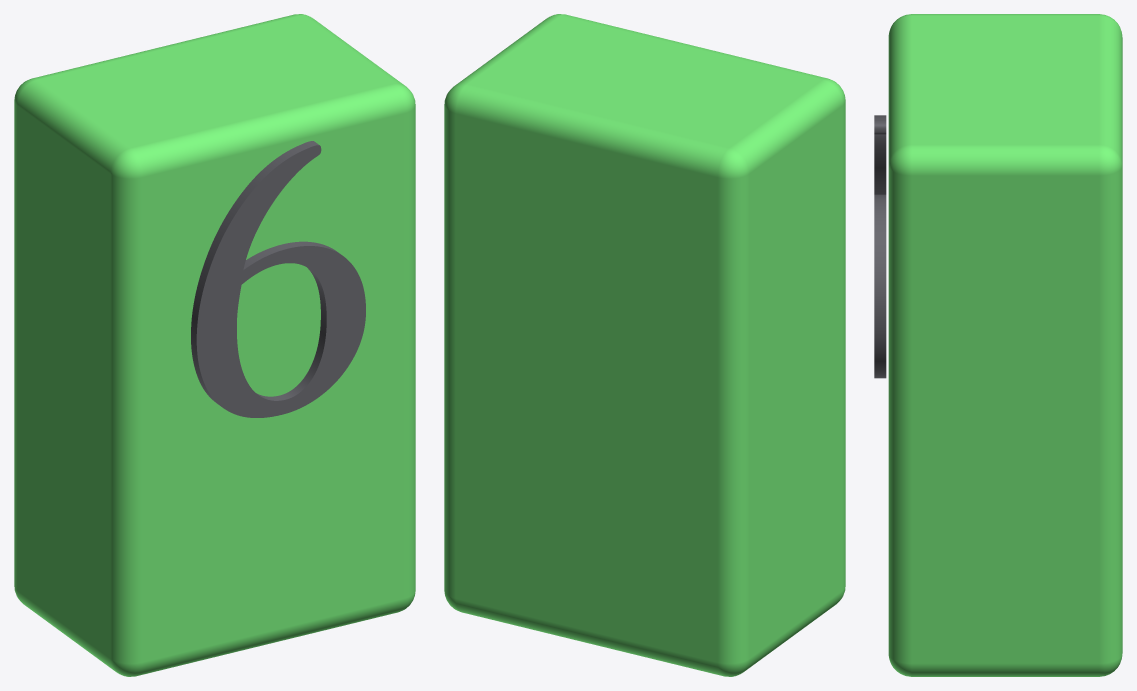
Rendered from pin_6.gltf.
3 renders of one model, left to right at view 1: azimuth 30°, elevation 25°; view 2: azimuth 150°, elevation 25°; view 3: azimuth 270°, elevation 25°, orthographic.
Visible parts, largest first — view 1: White, Black; view 2: White; view 3: White, Black.
Part boxes in pixels (left/top/right/bottom): White: left=14, top=14, right=415, bottom=676; Black: left=191, top=141, right=365, bottom=417; White: left=444, top=14, right=845, bottom=676; White: left=888, top=14, right=1122, bottom=676; Black: left=874, top=115, right=886, bottom=378.
Size of the model in its own units: 1.5 by 2.5 by 1.06.
